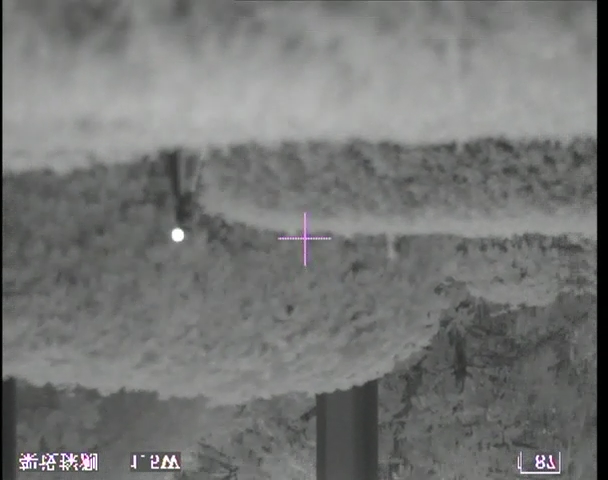my: (170, 226, 185, 244)
